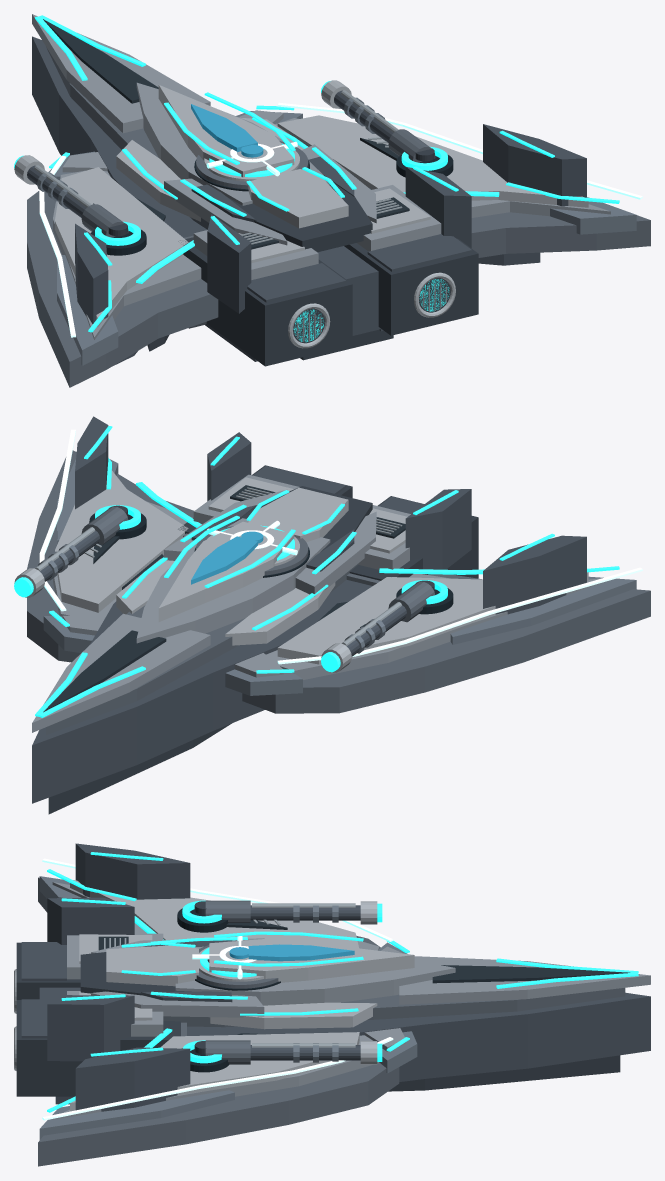
File: Cyan_Interceptor_Mk2.glb
3 renders of one model, top to bottom at view 1: azimuth 30°, elevation 25°; view 2: azimuth 150°, elevation 25°; view 3: azimuth 270°, elevation 25°, orthographic. The views are drawn at different scales.
Visible parts, largest first — view 1: L_Wing_Base, Fuselage_Main_Hull, L_Engine_Core, R_Wing_Upper_Secondary, L_Wing_Upper_Secondary, R_Engine_Core, R_Wing_Base, R_Upper_Fin, Forward_Nose_Wedge, Centre_Tail_Carapace, Dorsal_Cockpit_Top, Dorsal_Cockpit_Base (+36 smaller); view 2: Fuselage_Main_Hull, L_Wing_Base, R_Wing_Upper_Secondary, L_Wing_Upper_Secondary, L_Upper_Fin, Dorsal_Cockpit_Base, Forward_Nose_Wedge, Dorsal_Cockpit_Top, L_Engine_Outer_Fin, R_Wing_Base, L_Wing_Outer_Blade, Centre_Tail_Carapace (+34 smaller); view 3: Fuselage_Main_Hull, R_Wing_Base, R_Upper_Fin, R_Engine_Outer_Fin, L_Upper_Fin, Forward_Nose_Wedge, Dorsal_Cockpit_Base, Dorsal_Cockpit_Top, R_Wing_Upper_Secondary, L_Wing_Upper_Secondary, Fuselage_Mid_Armor, R_Engine_Core (+34 smaller).
Boxes of the visible parts, x1,y1,x2,y2 form: L_Wing_Base: (27,191,218,387); Fuselage_Main_Hull: (32,36,380,335); L_Engine_Core: (178,237,352,366); R_Wing_Upper_Secondary: (277,115,588,207); L_Wing_Upper_Secondary: (55,167,188,326); R_Engine_Core: (344,238,478,335); R_Wing_Base: (471,212,650,257); R_Upper_Fin: (483,124,586,206); Forward_Nose_Wedge: (32,14,210,133); Centre_Tail_Carapace: (248,169,348,228); Dorsal_Cockpit_Top: (158,85,294,177); Dorsal_Cockpit_Base: (136,82,329,205); Fuselage_Main_Hull: (32,555,372,803); L_Wing_Base: (242,574,650,713); R_Wing_Upper_Secondary: (55,470,188,612); L_Wing_Upper_Secondary: (277,572,588,664); L_Upper_Fin: (483,535,586,614); Dorsal_Cockpit_Base: (136,518,330,643); Forward_Nose_Wedge: (32,613,210,732); Dorsal_Cockpit_Top: (158,521,294,621); L_Engine_Outer_Fin: (405,489,471,574); R_Wing_Base: (27,450,193,662); L_Wing_Outer_Blade: (450,576,636,644); Centre_Tail_Carapace: (248,487,348,541); Fuselage_Main_Hull: (39,987,650,1081); R_Wing_Base: (38,1063,399,1166); R_Upper_Fin: (75,1047,190,1111); R_Engine_Outer_Fin: (47,995,134,1061); L_Upper_Fin: (75,843,190,899); Forward_Nose_Wedge: (399,956,650,1004); Dorsal_Cockpit_Base: (175,946,455,1005); Dorsal_Cockpit_Top: (209,939,414,982); R_Wing_Upper_Secondary: (70,1032,359,1111); L_Wing_Upper_Secondary: (70,880,358,948); Fuselage_Mid_Armor: (163,988,625,1027); R_Engine_Core: (16,1000,180,1096).
Bounding box in the file's own units: 12.2 × 2.76 × 12.4.
